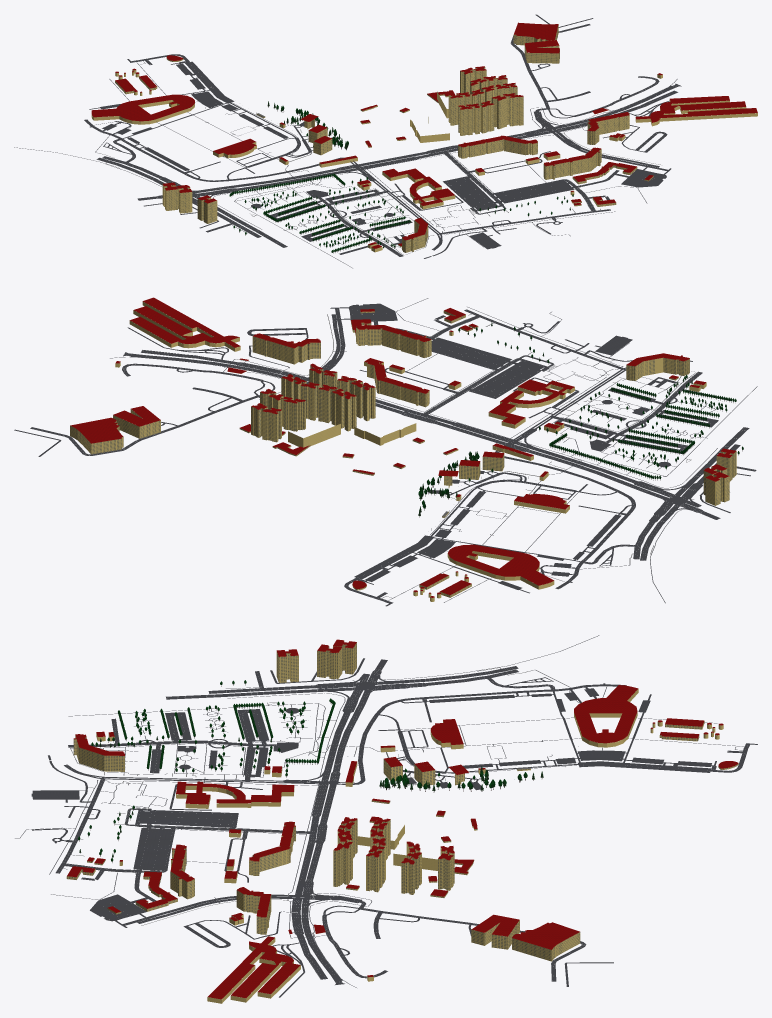
Rendered from osm3d.glb.
The picture shows the model from 3 angles, top to bottom: view 1: azimuth 30°, elevation 25°; view 2: azimuth 150°, elevation 25°; view 3: azimuth 270°, elevation 25°; orthographic projection. The views are drawn at different scales.
Parts seen in each view (by area): view 1: ASPHALT, Plaster002, RoofingTiles010, Windows, TextureAtlas 6f884709; view 2: ASPHALT, Plaster002, RoofingTiles010, Windows, TextureAtlas 6f884709; view 3: ASPHALT, Plaster002, RoofingTiles010, Windows, TextureAtlas 6f884709.
Boxes of the visible parts, x1,y1,x2,y2 form: ASPHALT: (14, 14, 681, 268); Plaster002: (91, 24, 757, 252); RoofingTiles010: (91, 22, 757, 248); Windows: (115, 30, 653, 252); TextureAtlas 6f884709: (229, 101, 573, 253); ASPHALT: (14, 298, 757, 606); Plaster002: (70, 301, 736, 601); RoofingTiles010: (70, 297, 736, 597); Windows: (70, 311, 735, 597); TextureAtlas 6f884709: (418, 322, 743, 517); ASPHALT: (15, 635, 757, 997); Plaster002: (66, 640, 738, 1003); RoofingTiles010: (67, 639, 738, 999); Windows: (67, 643, 737, 960); TextureAtlas 6f884709: (78, 680, 543, 862).
Size of the model in its own units: 1361 by 62.58 by 1160.
17 materials, 17 textured.
